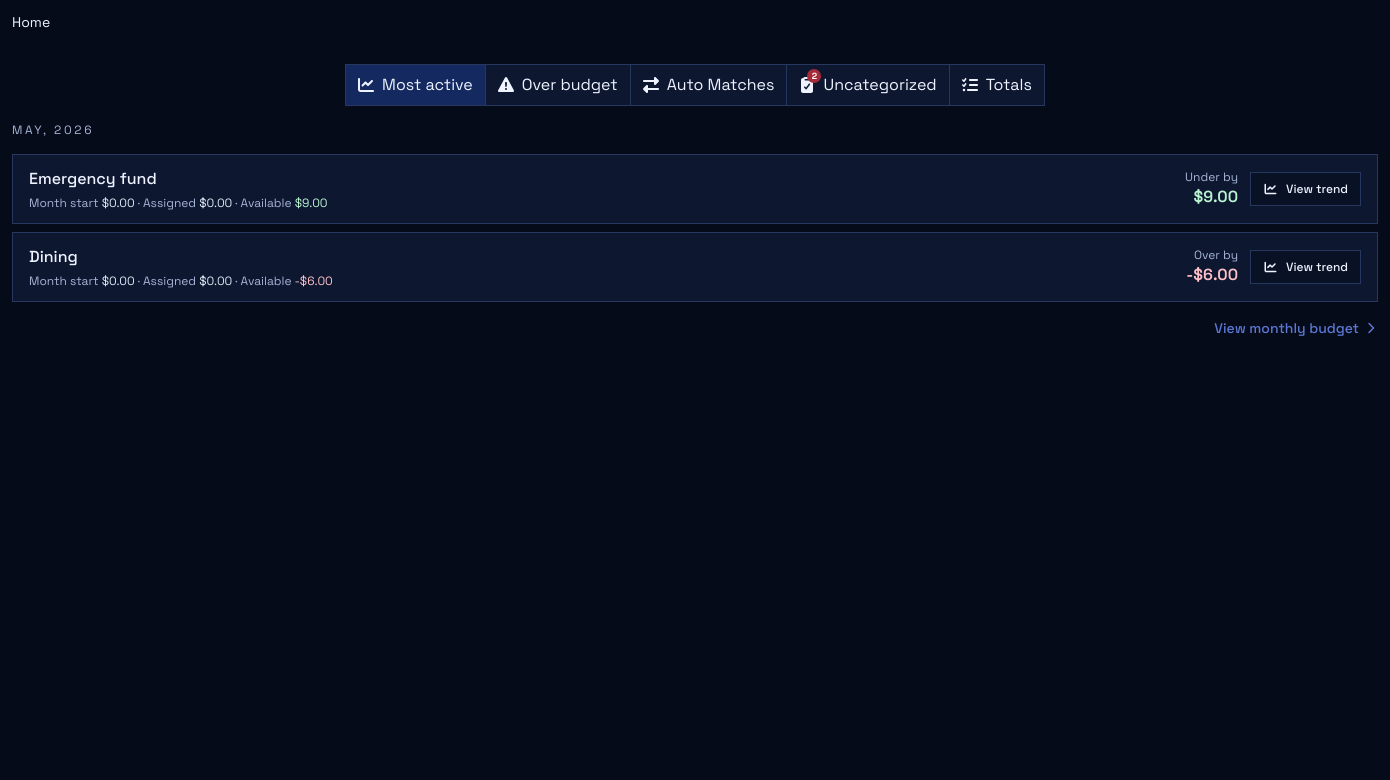
Scenario: dashboard workspace › shows over-budget categories and ranks activity across the ledger
The width and height of the screenshot is (1390, 780).
Check: the number of tabs is 5, box [346,65,485,105]; [485,65,630,105]; [630,65,786,105]; [786,65,949,105]; [949,65,1044,105]
Check: the text "2" is shown, box [808,69,822,83]
Press ArrowDown
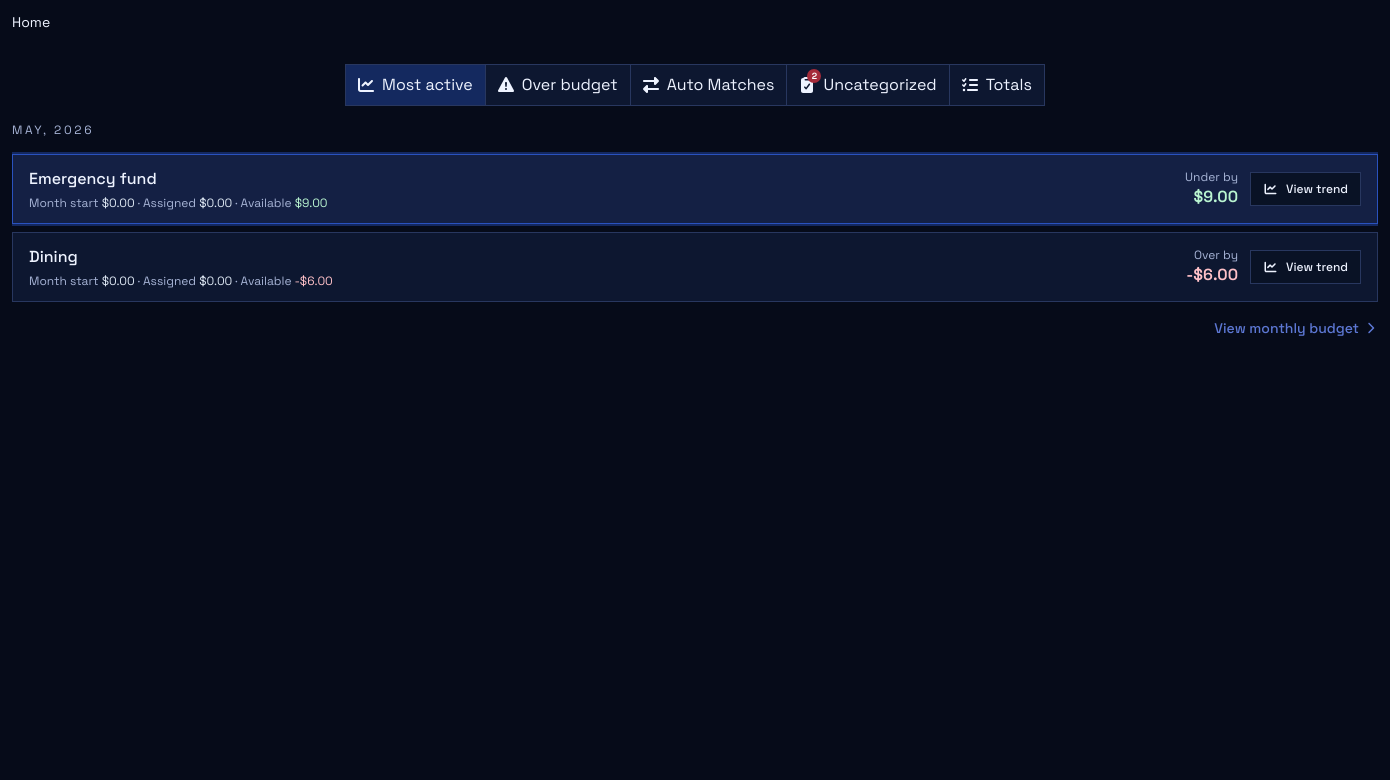
Press Enter
Press v
Press ArrowRight in the tab "Most active", box [346,65,485,105]
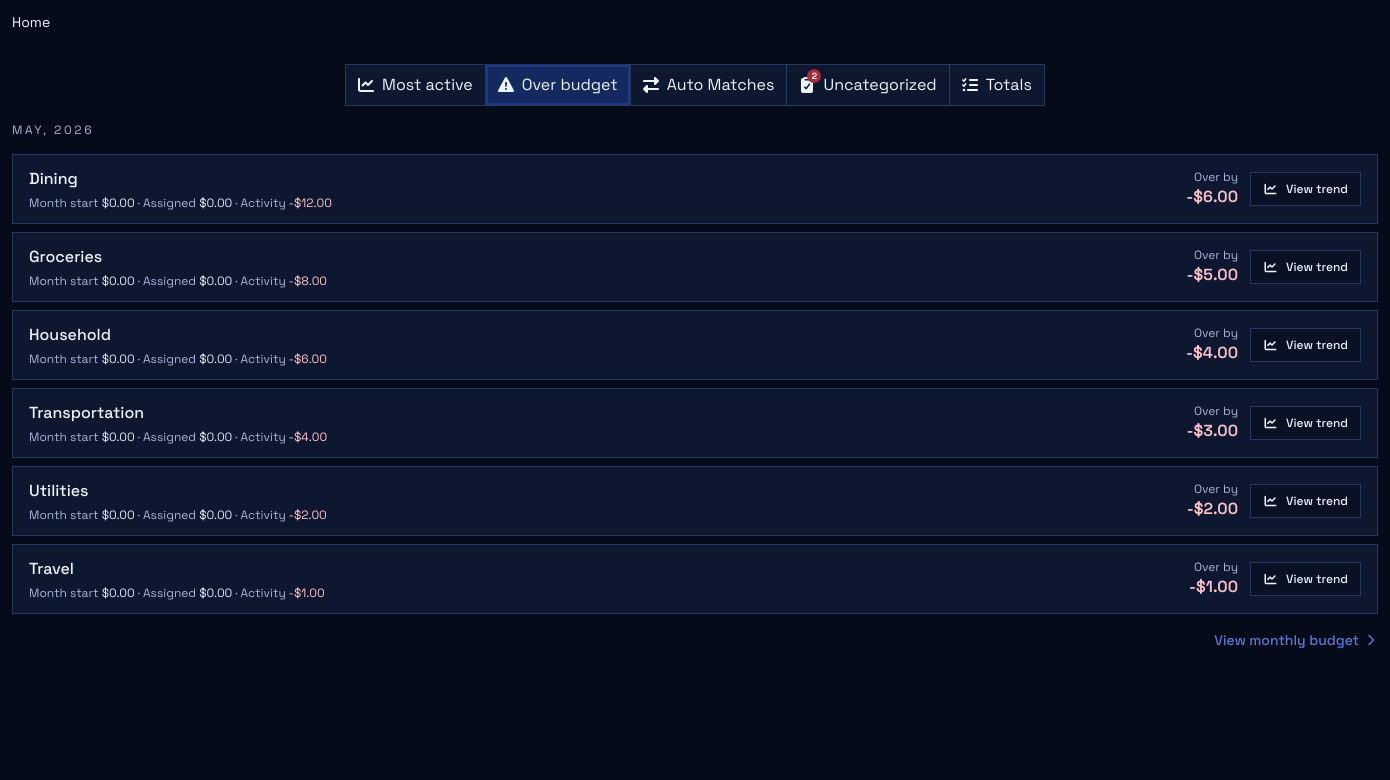
Check: the text "Dining" is shown, box [29,168,78,189]
Check: the text "Utilities" is shown, box [29,480,88,501]
Check: the text "Emergency fund" is gone
Click the tab "Totals": click(996, 85) [949,65,1044,105]
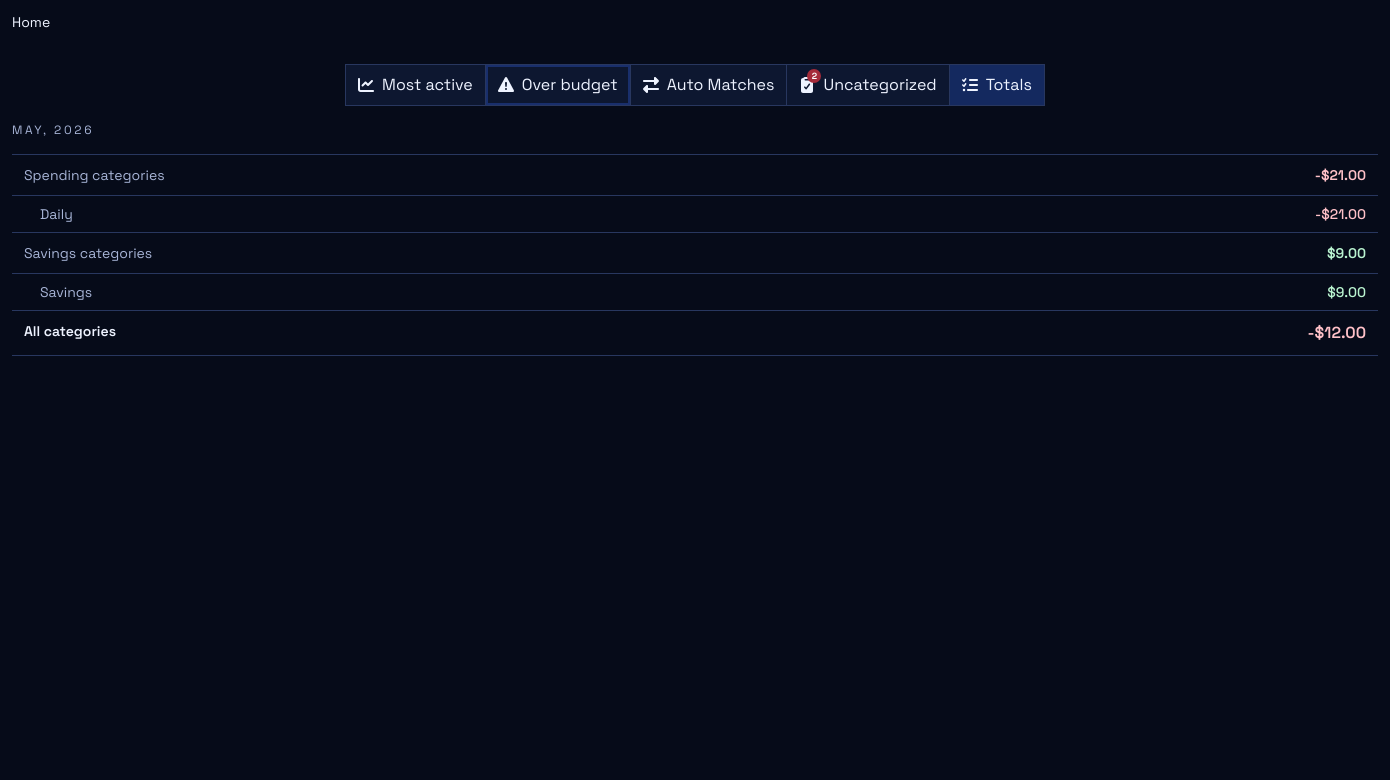
Check: the text "Spending categories" is shown, box [24,166,165,184]
Check: the text "Daily" is shown, box [40,205,73,223]
Check: the text "Savings categories" is shown, box [24,244,152,262]
